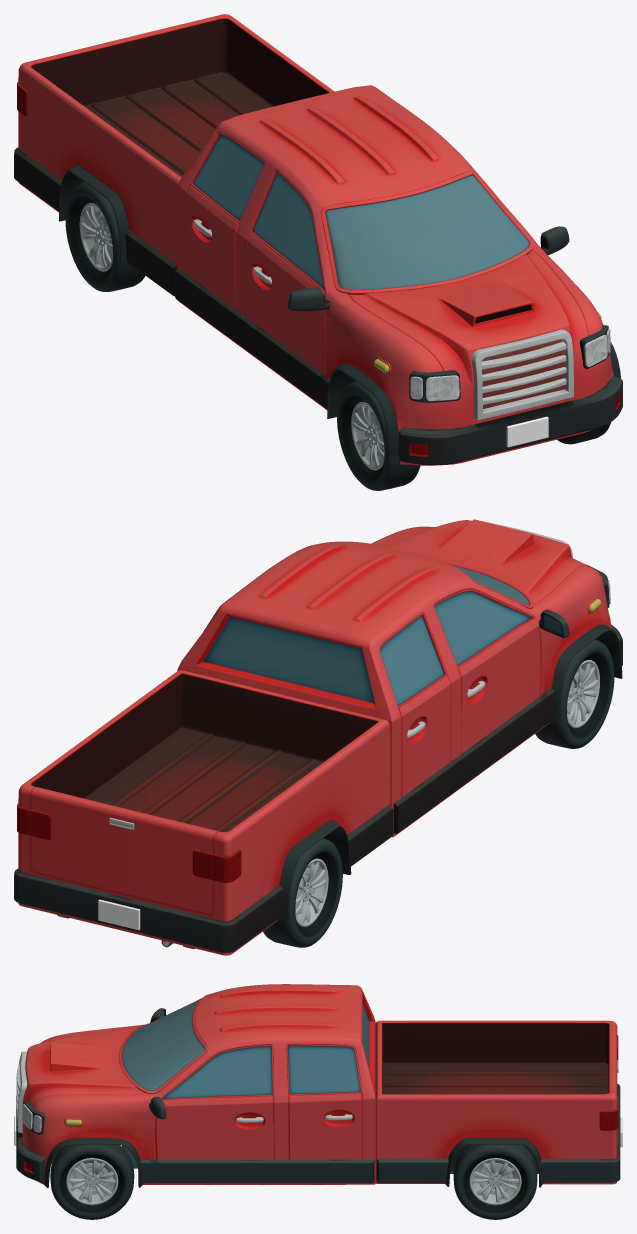
Rendered from gear.glb.
3 views of the same model, one above another, from view 1: azimuth 30°, elevation 25°; view 2: azimuth 150°, elevation 25°; view 3: azimuth 270°, elevation 25° (orthographic). The views are drawn at different scales.
Visible parts, largest first — view 1: truck.1; view 2: truck.1; view 3: truck.1.
Part boxes in pixels (x1,y1,x2,y2): truck.1: [14, 14, 622, 490]; truck.1: [14, 519, 622, 955]; truck.1: [14, 984, 622, 1219].
Bounding box in the file's own units: 0.0955 × 0.0766 × 0.2426.
Materials: 1 (1 with a texture image).
